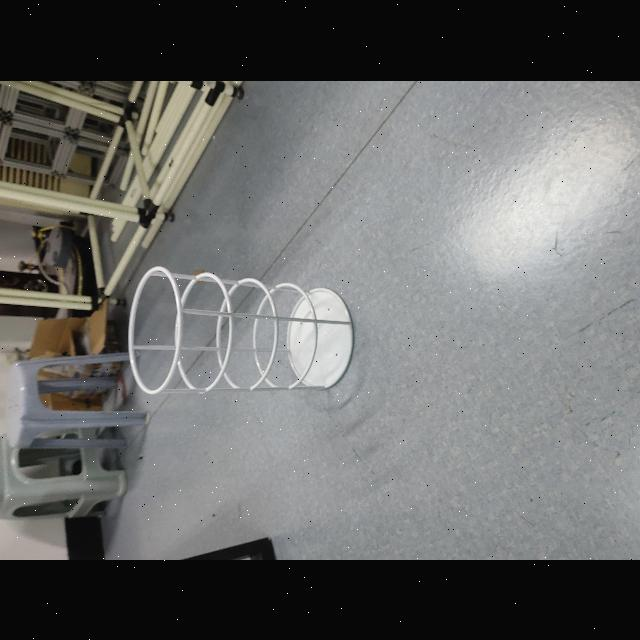S: (120, 258, 360, 398)
